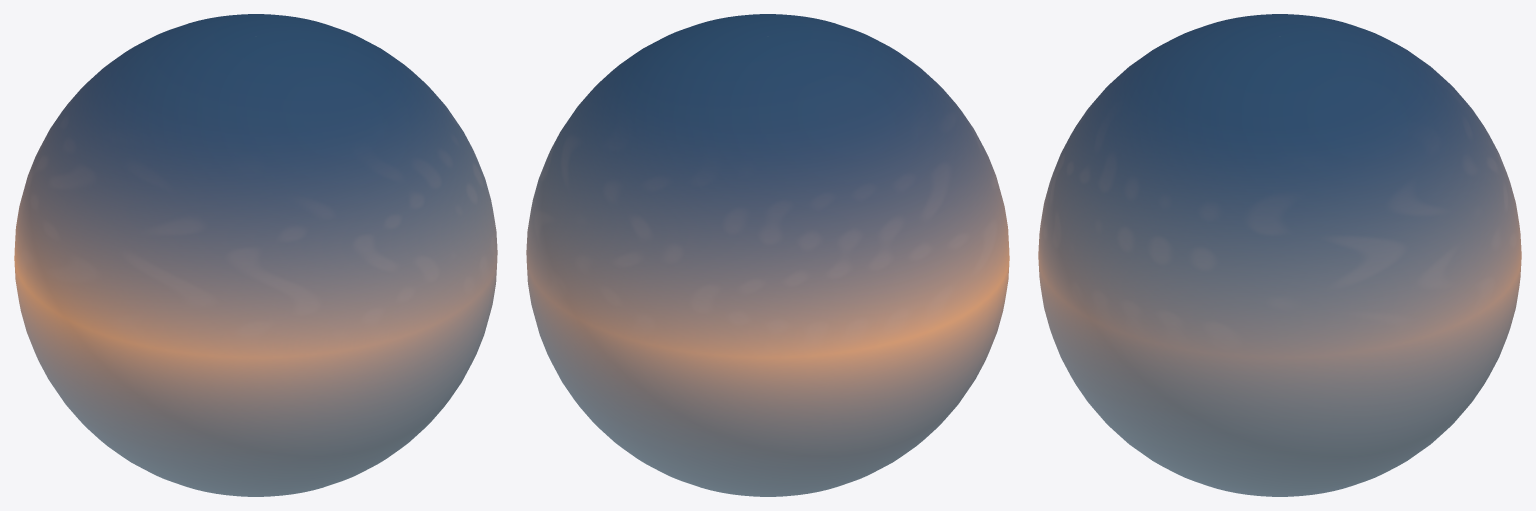
3 views of the same model, side by side, from view 1: azimuth 30°, elevation 25°; view 2: azimuth 150°, elevation 25°; view 3: azimuth 270°, elevation 25° (orthographic).
Visible parts, largest first — view 1: 昼夜渐变天空穹顶母版; view 2: 昼夜渐变天空穹顶母版; view 3: 昼夜渐变天空穹顶母版.
Part boxes in pixels (x1,y1,x2,y2): 昼夜渐变天空穹顶母版: (14,14,497,496); 昼夜渐变天空穹顶母版: (526,14,1009,496); 昼夜渐变天空穹顶母版: (1038,14,1521,496).
Size of the model in its own units: 28000 by 28000 by 28000.
Materials: 29 (28 with a texture image).
